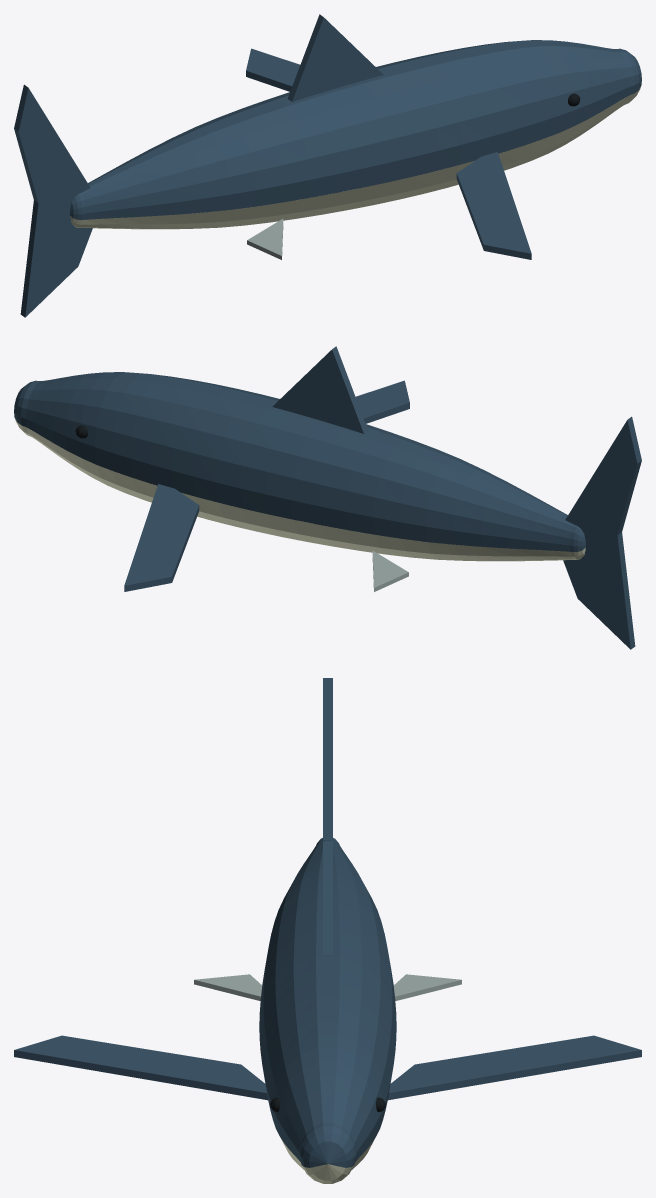
The model's file is flying-fish.dae.
The picture shows the model from 3 angles, top to bottom: view 1: azimuth 30°, elevation 25°; view 2: azimuth 150°, elevation 25°; view 3: azimuth 270°, elevation 25°; orthographic projection. The views are drawn at different scales.
Parts seen in each view (by area): view 1: part3-node, part2-node, part0-node; view 2: part3-node, part2-node, part0-node; view 3: part3-node, part0-node, part2-node.
Boxes of the visible parts, left/top/right/bottom form: part3-node: left=14, top=14, right=641, bottom=317; part2-node: left=70, top=86, right=640, bottom=229; part0-node: left=247, top=219, right=283, bottom=259; part3-node: left=14, top=346, right=641, bottom=649; part2-node: left=15, top=418, right=585, bottom=561; part0-node: left=372, top=551, right=408, bottom=591; part3-node: left=14, top=678, right=641, bottom=1167; part0-node: left=194, top=974, right=461, bottom=1000; part2-node: left=281, top=1139, right=374, bottom=1183.
Size of the model in its own units: 0.32 by 0.2498 by 0.1126.
